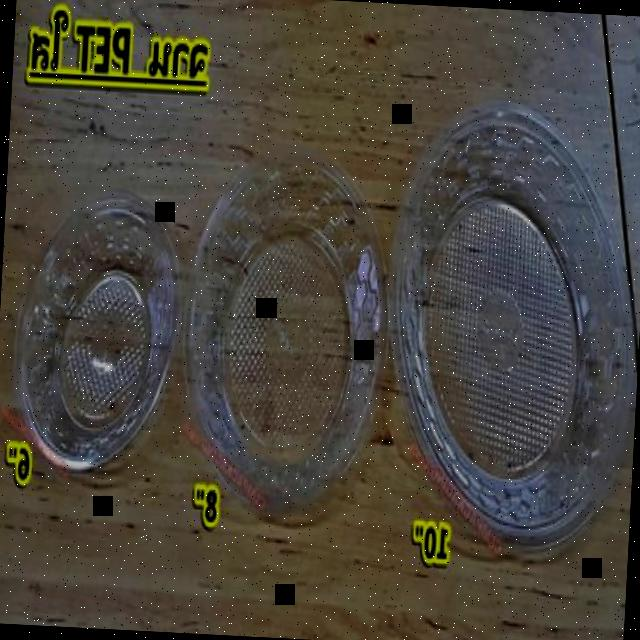plastic_box: (376, 97, 640, 558), (172, 149, 400, 525), (5, 187, 189, 480)
